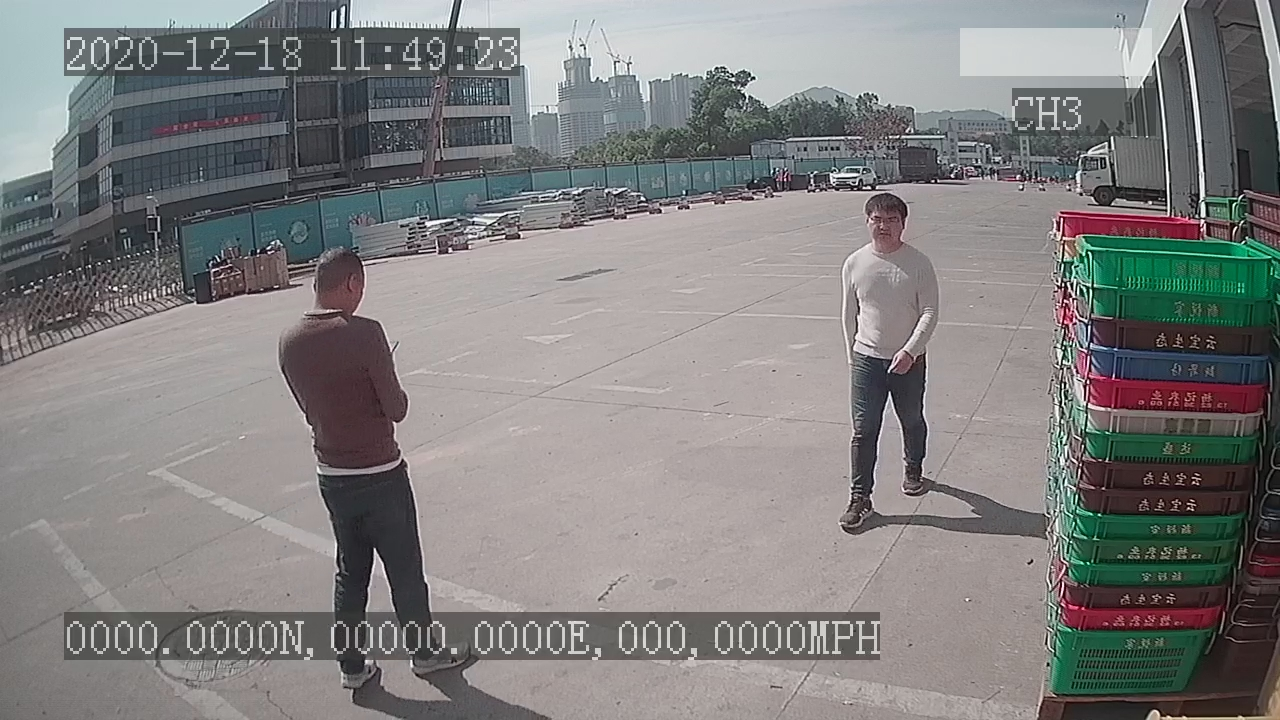person: (833, 190, 945, 535)
